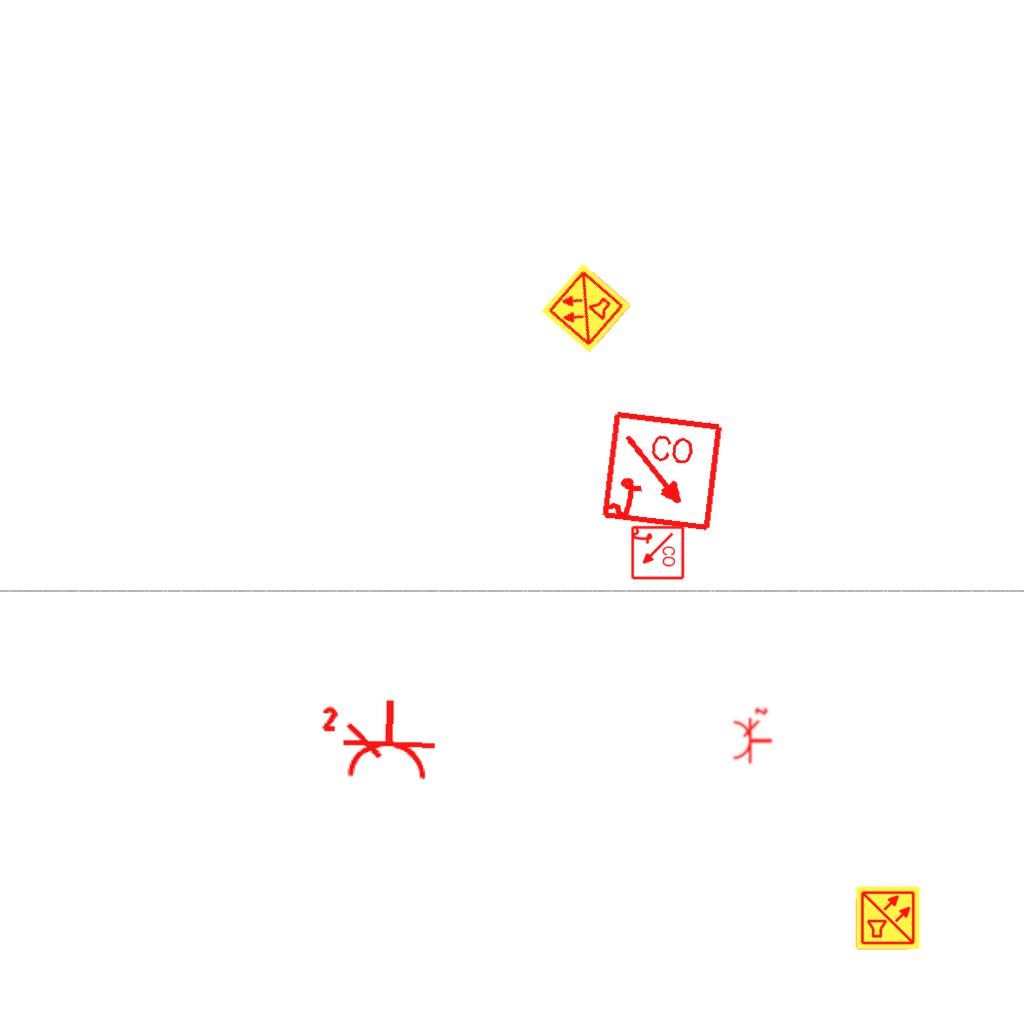OKW_Multisensormelder_(Kombination_optischer_Rauch-Kahlenmonoxid_Waerme-Melder): (539, 261, 633, 355), (855, 885, 921, 951)
ROA_Rauchmelder_optisch_mit_Signalgeber_(Sockelsirene): (599, 409, 726, 536), (629, 525, 685, 581)
Schukosteckdose_mehrfach: (317, 691, 442, 785), (731, 706, 775, 766)
